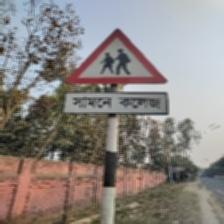College-in-front: (68, 27, 191, 142)
